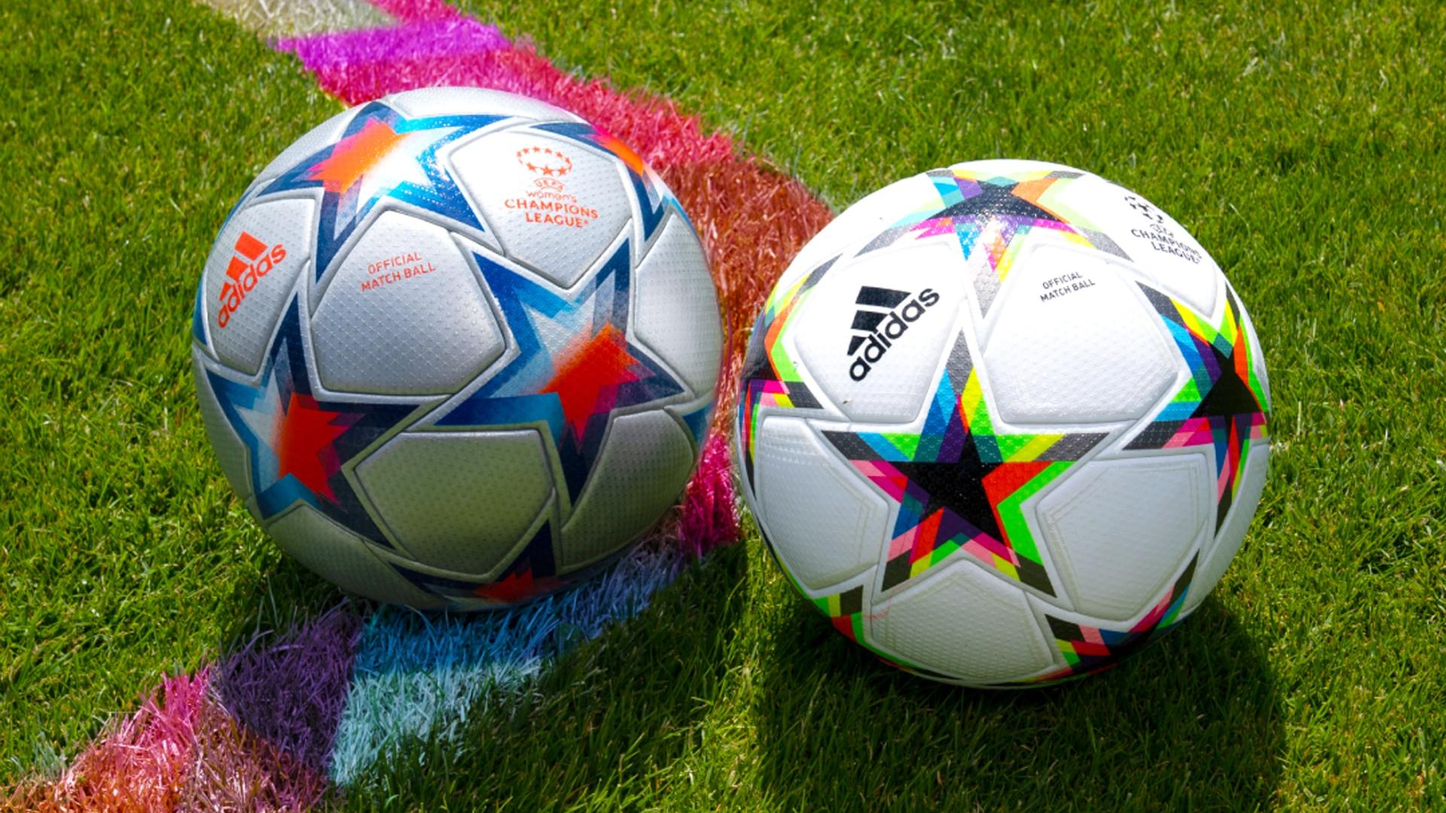sphere: (734, 160, 1271, 689), (192, 87, 722, 614)
